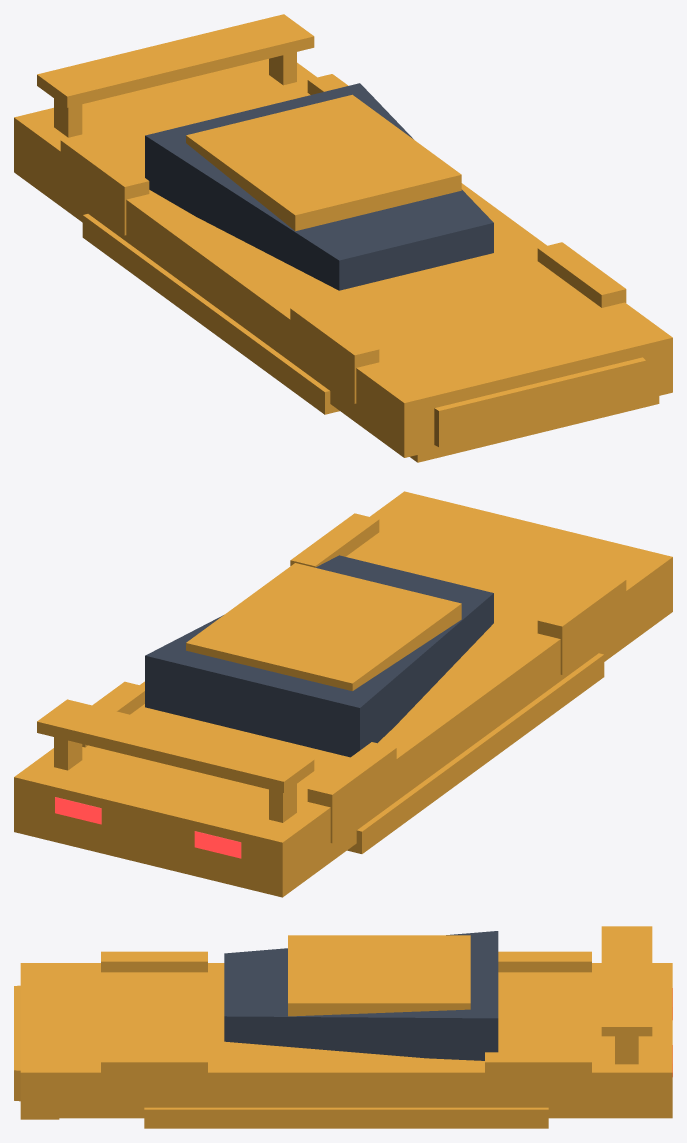
The model's file is car_inferno.glb.
The picture shows the model from 3 angles, top to bottom: view 1: azimuth 30°, elevation 25°; view 2: azimuth 150°, elevation 25°; view 3: azimuth 270°, elevation 25°; orthographic projection. The views are drawn at different scales.
Visible parts, largest first — view 1: Mesh; view 2: Mesh; view 3: Mesh.
Boxes of the visible parts, bbox=[...] form: Mesh: bbox=[14, 14, 672, 462]; Mesh: bbox=[14, 491, 672, 897]; Mesh: bbox=[14, 926, 672, 1128].
Bounding box in the file's own units: 1.81 × 0.76 × 4.43.
